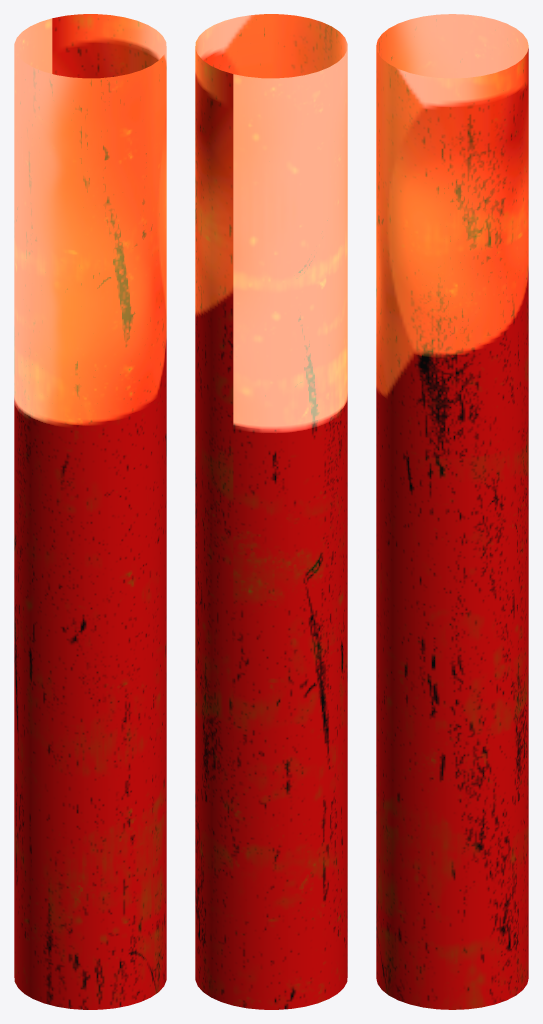
The model's file is SM_IronPipe_straight_01.fbx.
3 views of the same model, side by side, from view 1: azimuth 30°, elevation 25°; view 2: azimuth 150°, elevation 25°; view 3: azimuth 270°, elevation 25° (orthographic).
Parts seen in each view (by area): view 1: SM_IronPipe_straight_01_LOD0; view 2: SM_IronPipe_straight_01_LOD0; view 3: SM_IronPipe_straight_01_LOD0.
Part boxes in pixels (x1,y1,x2,y2): SM_IronPipe_straight_01_LOD0: (14,14,166,1009); SM_IronPipe_straight_01_LOD0: (195,14,347,1009); SM_IronPipe_straight_01_LOD0: (376,14,528,1009).
Size of the model in its own units: 14.85 by 14.85 by 100.
